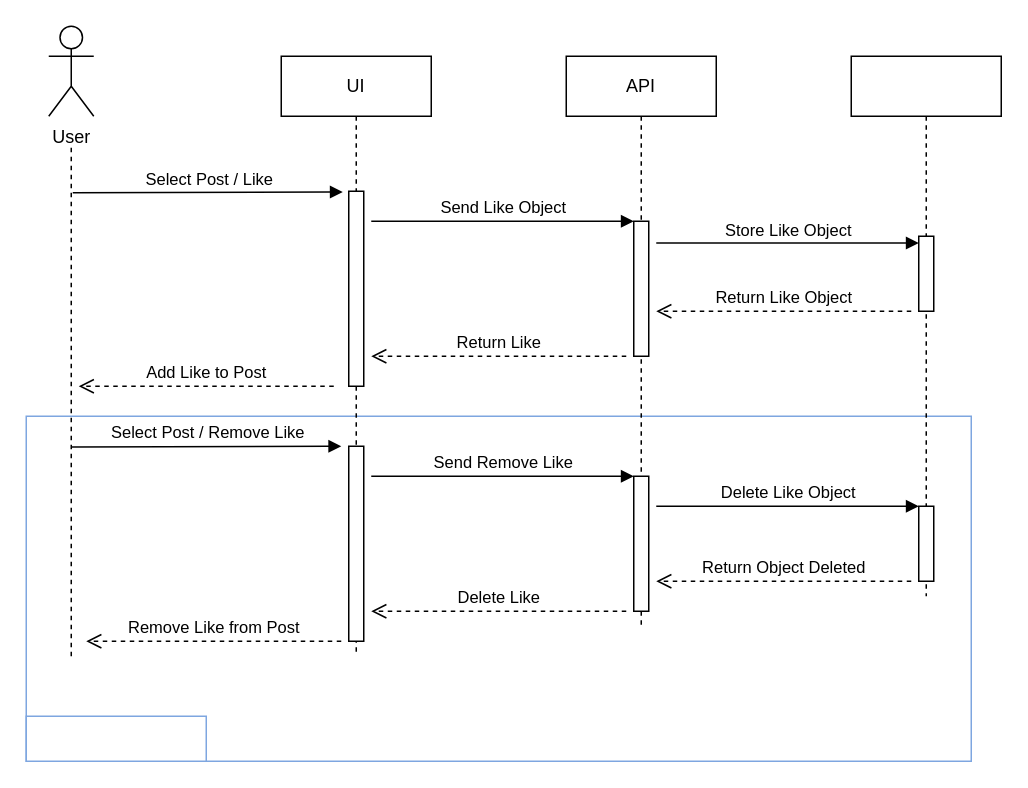
Some shapes in this 1028 by 788 pixel diagram are drawn without their labels. Each missing label, with the centre of its shape:
"ALT: Remove Like" belongs at (x=115, y=738).
"Database" belongs at (x=925, y=325).
